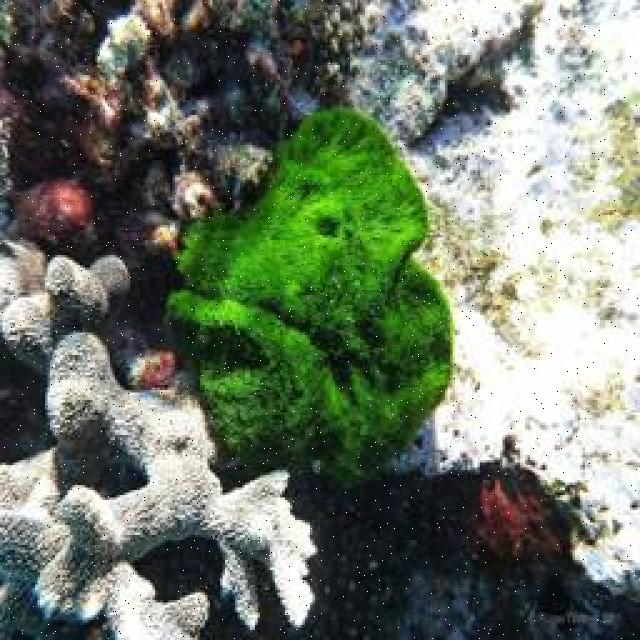reefs: (0, 238, 321, 638), (165, 109, 456, 488)
sea-floor: (0, 0, 376, 389)
